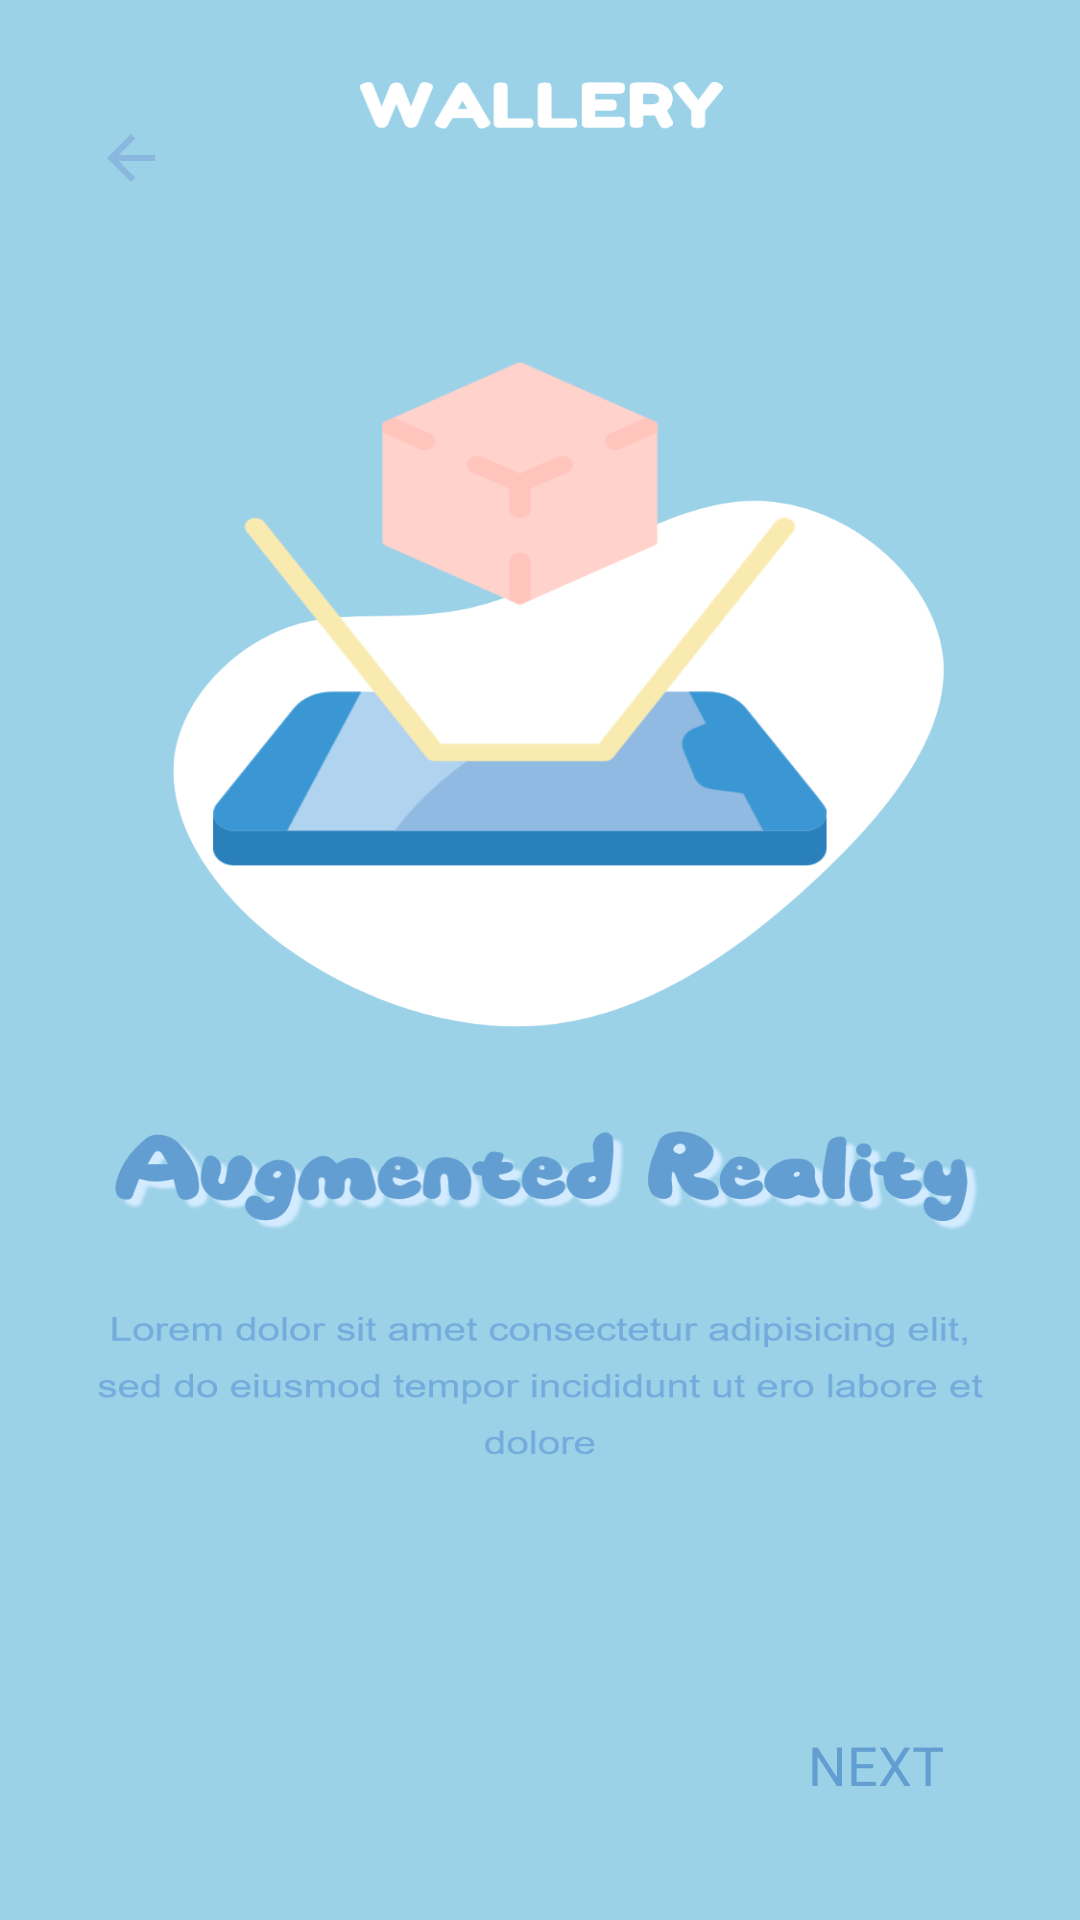

Where icons sit on this 1080px×1920px app screen, as Rect(x1, y1, x2, y2):
backbtn: Rect(108, 135, 155, 181)
